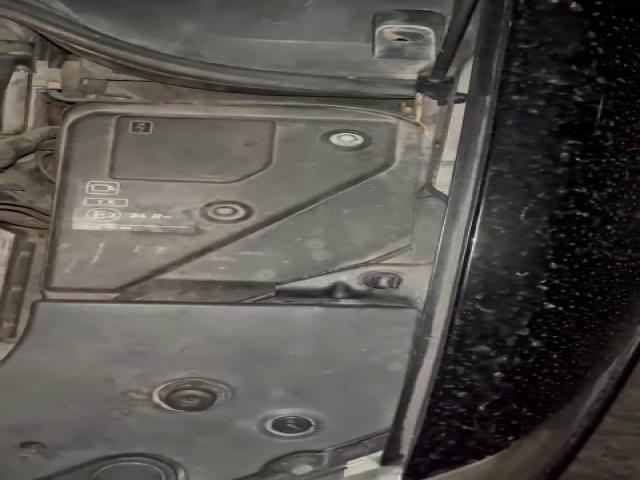fuse_box: (45, 110, 388, 292)
